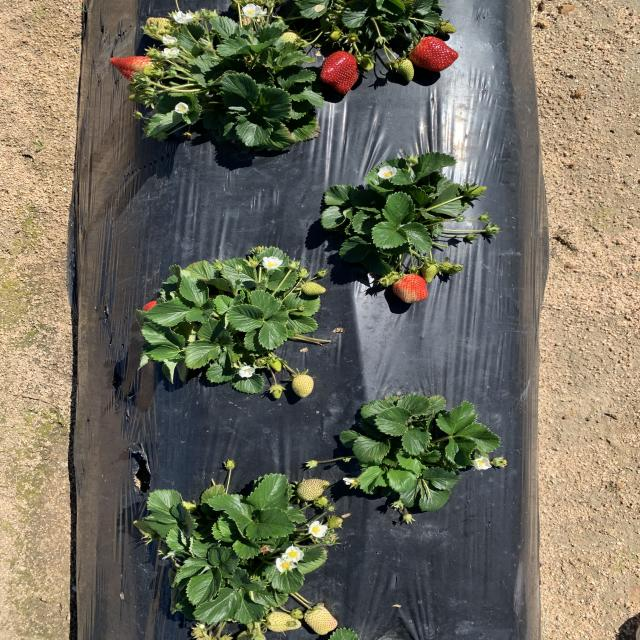unripe: (406, 37, 461, 72), (321, 51, 358, 93), (108, 55, 158, 81), (140, 297, 178, 325), (397, 276, 428, 301)
